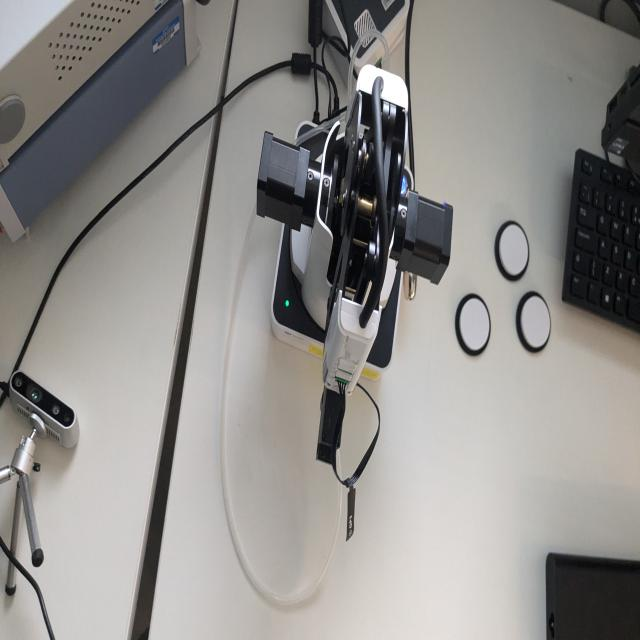Robot-end-effector-HF8z: (315, 380, 345, 476)
